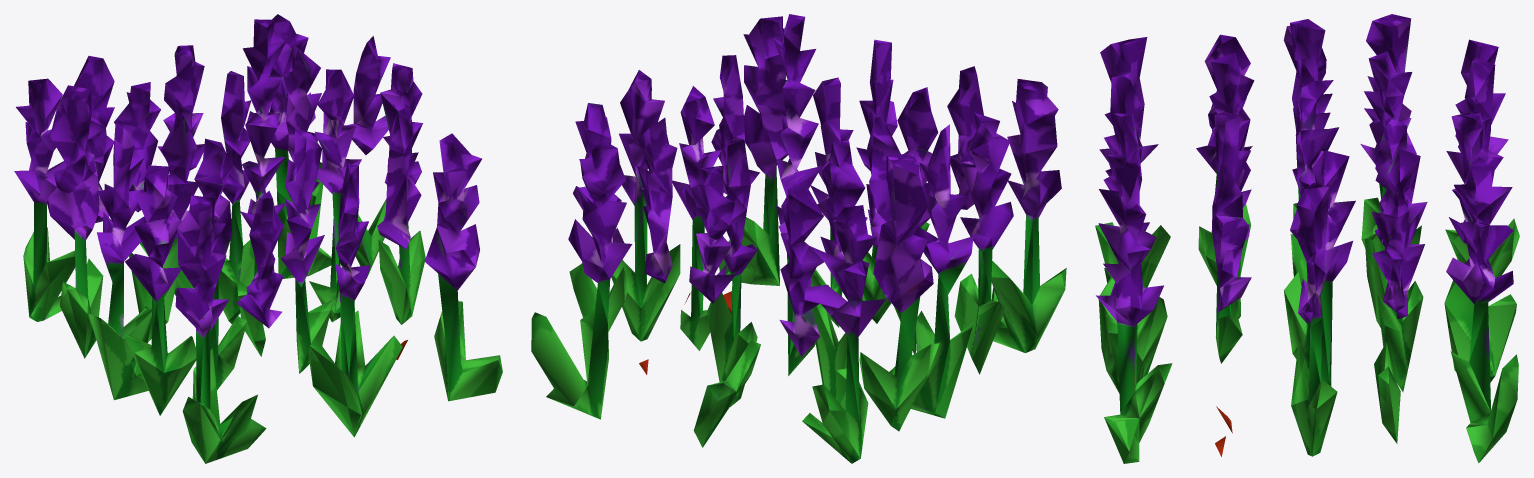
The model's file is lavender-row.glb.
3 renders of one model, left to right at view 1: azimuth 30°, elevation 25°; view 2: azimuth 150°, elevation 25°; view 3: azimuth 270°, elevation 25°, orthographic. The views are drawn at different scales.
Visible parts, largest first — view 1: geometry_0; view 2: geometry_0; view 3: geometry_0.
Boxes of the visible parts, x1=… form: geometry_0: x1=14, y1=14, x2=502, y2=463; geometry_0: x1=531, y1=14, x2=1066, y2=463; geometry_0: x1=1095, y1=14, x2=1519, y2=463.
Size of the model in its own units: 1.01 by 0.9783 by 0.9969.
Materials: 1 (1 with a texture image).
